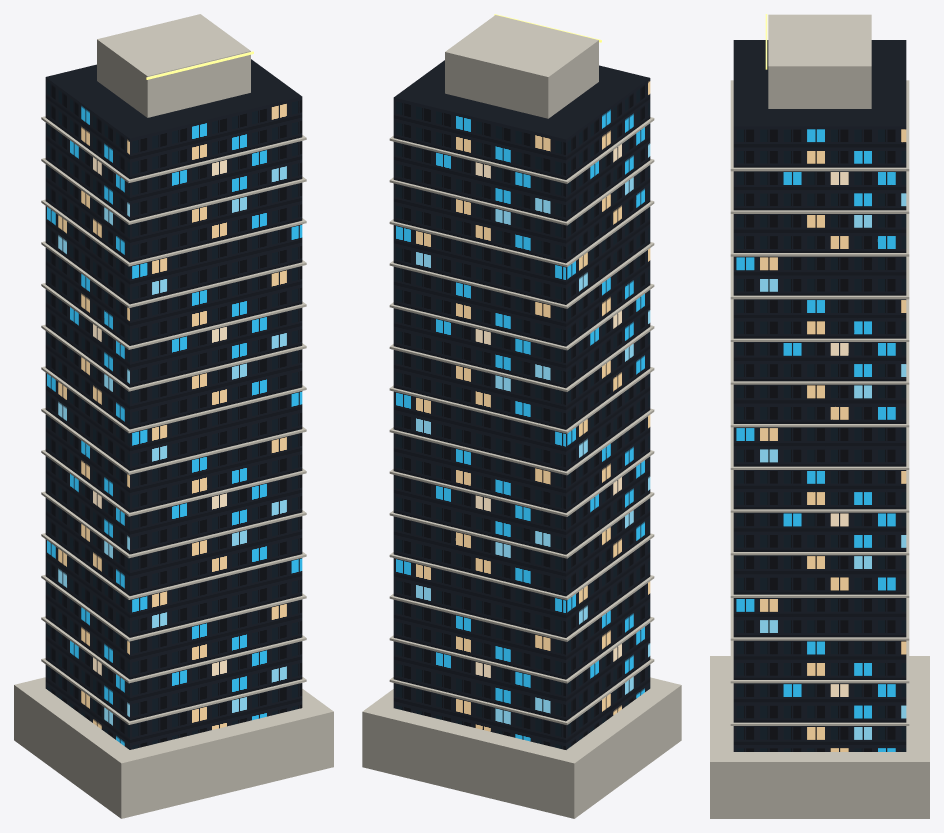
File: apartment_tower_a.glb
3 views of the same model, side by side, from view 1: azimuth 30°, elevation 25°; view 2: azimuth 150°, elevation 25°; view 3: azimuth 270°, elevation 25° (orthographic). The views are drawn at different scales.
Parts seen in each view (by area): view 1: tower; view 2: tower; view 3: tower.
Boxes of the visible parts, x1,y1,x2,y2 form: tower: (14, 14, 333, 818); tower: (362, 14, 681, 818); tower: (710, 14, 929, 818).
Size of the model in its own units: 32 by 102 by 28.
Materials: 3 (1 with a texture image).
